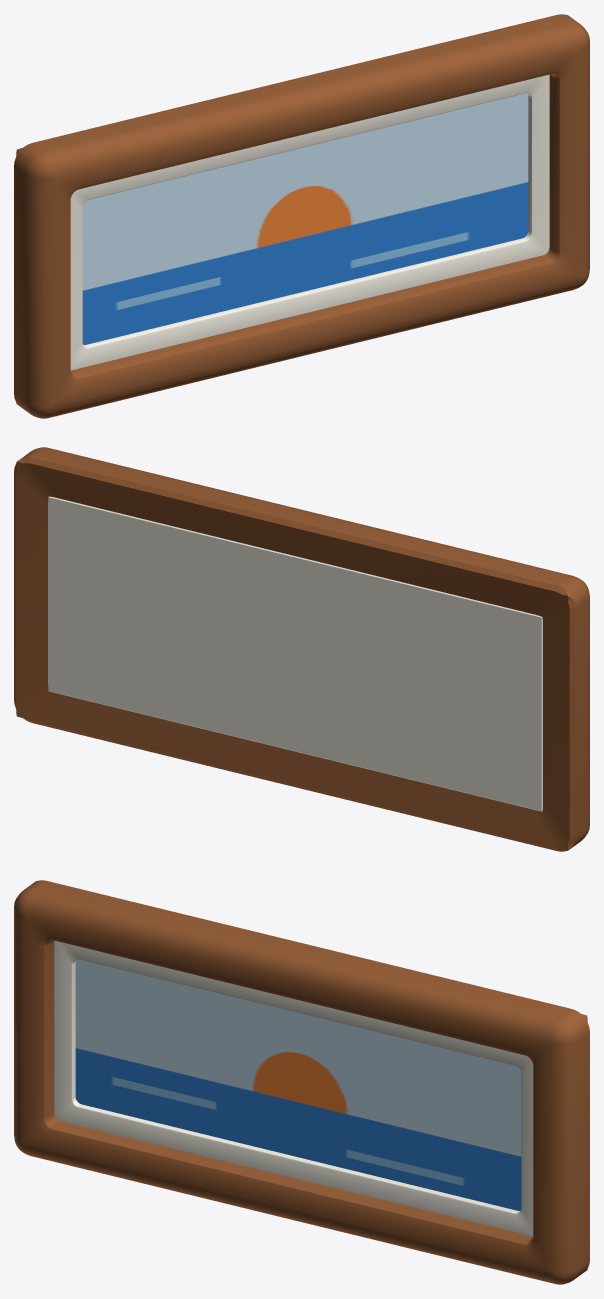
Rendered from quadro_faixa_mar.glb.
3 views of the same model, one above another, from view 1: azimuth 30°, elevation 25°; view 2: azimuth 150°, elevation 25°; view 3: azimuth 330°, elevation 25° (orthographic).
Visible parts, largest first — view 1: quadro_faixa_mar; view 2: quadro_faixa_mar; view 3: quadro_faixa_mar.
Boxes of the visible parts, x1,y1,x2,y2 form: quadro_faixa_mar: (14, 14, 589, 418); quadro_faixa_mar: (14, 447, 589, 851); quadro_faixa_mar: (14, 880, 589, 1284).
Bounding box in the file's own units: 0.376 × 0.1698 × 0.028.
Materials: 2 (2 with a texture image).
